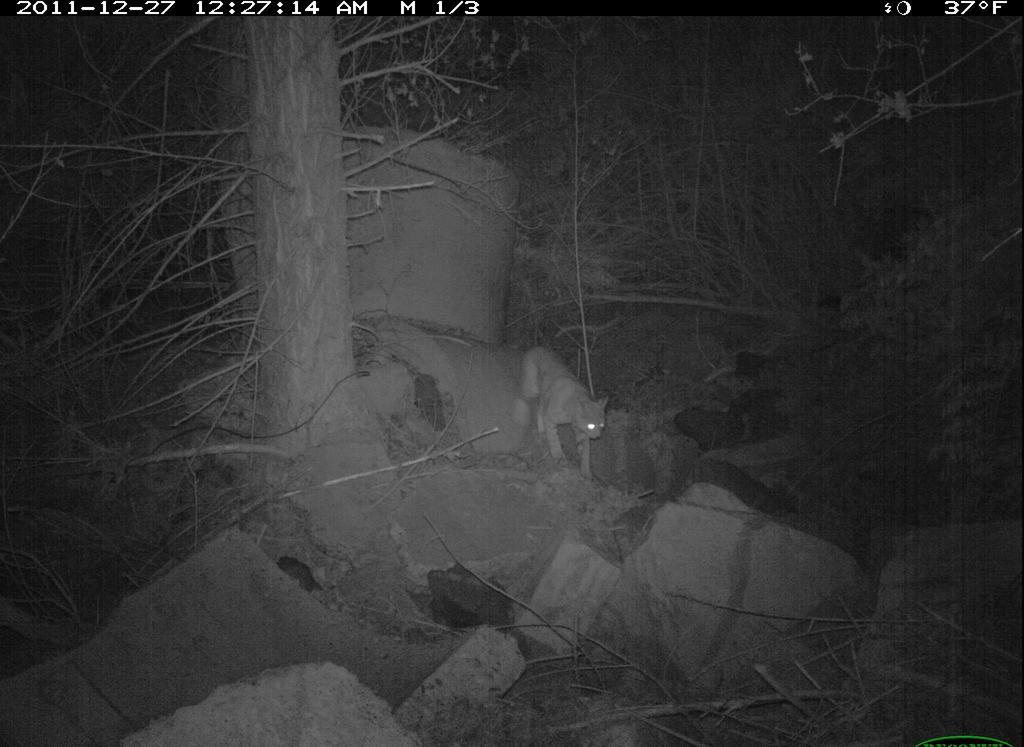bobcat: (511, 340, 620, 482)
